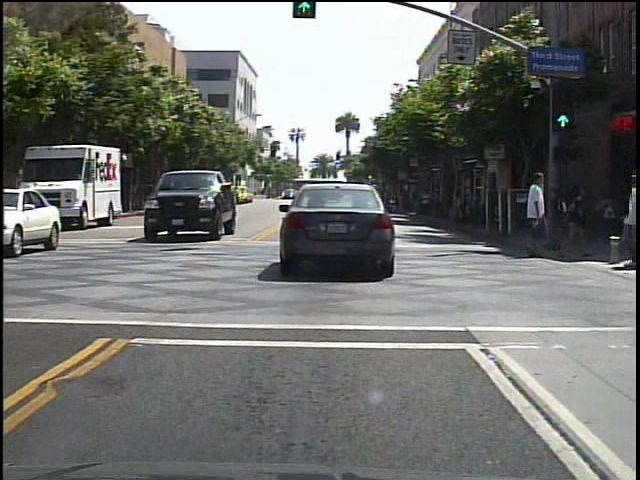person: (517, 161, 554, 259), (416, 188, 435, 220), (559, 174, 560, 258)
